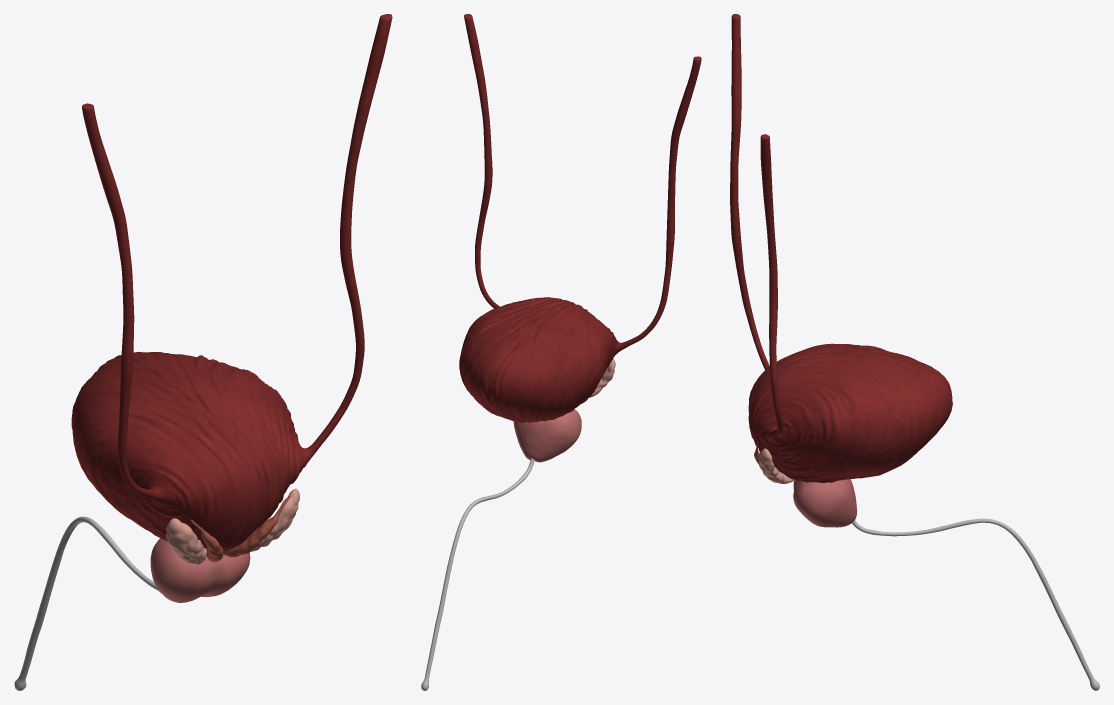
Rendered from pelvic-atlas.glb.
3 renders of one model, left to right at view 1: azimuth 30°, elevation 25°; view 2: azimuth 150°, elevation 25°; view 3: azimuth 270°, elevation 25°, orthographic. The views are drawn at different scales.
Visible parts, largest first — view 1: Bladder, Prostate, Urethra, Ampulla_01, Seminal_L, Seminal_R; view 2: Bladder, Prostate, Urethra; view 3: Bladder, Prostate, Urethra, Seminal_R.
Boxes of the visible parts, bbox=[...] form: Bladder: bbox=[71, 14, 392, 551]; Prostate: bbox=[150, 538, 250, 602]; Urethra: bbox=[14, 516, 158, 690]; Ampulla_01: bbox=[190, 495, 290, 561]; Seminal_L: bbox=[166, 518, 206, 564]; Seminal_R: bbox=[251, 488, 299, 551]; Bladder: bbox=[459, 14, 701, 422]; Prostate: bbox=[513, 409, 581, 462]; Urethra: bbox=[421, 458, 534, 690]; Bladder: bbox=[730, 14, 952, 482]; Prostate: bbox=[793, 479, 857, 527]; Urethra: bbox=[852, 518, 1099, 690]; Seminal_R: bbox=[758, 448, 795, 483].
Size of the model in its own units: 3.87 by 9 by 4.92.
Materials: 5 (5 with a texture image).
